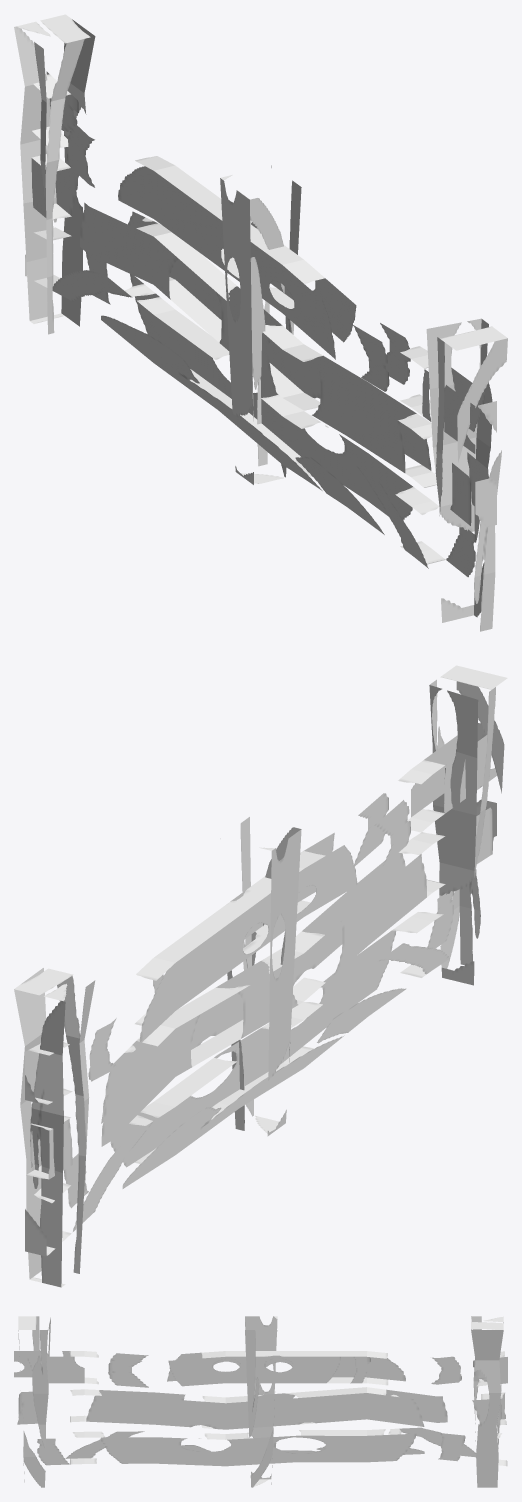
File: Fence.fbx
3 renders of one model, top to bottom at view 1: azimuth 30°, elevation 25°; view 2: azimuth 150°, elevation 25°; view 3: azimuth 270°, elevation 25°, orthographic. The views are drawn at different scales.
Visible parts, largest first — view 1: Cube.001, Cube.002, Cube; view 2: Cube.001, Cube.002, Cube; view 3: Cube.001, Cube.002, Cube.
Boxes of the visible parts, <box> form: Cube.001: <box>25,71,496,577</box>; Cube.002: <box>14,14,95,334</box>; Cube: <box>426,318,507,631</box>; Cube.001: <box>25,723,496,1256</box>; Cube.002: <box>14,968,95,1287</box>; Cube: <box>429,665,507,985</box>; Cube.001: <box>14,1316,507,1487</box>; Cube.002: <box>471,1316,503,1487</box>; Cube: <box>18,1316,50,1487</box>.
Bounding box in the file's own units: 29.01 × 156 × 436.
